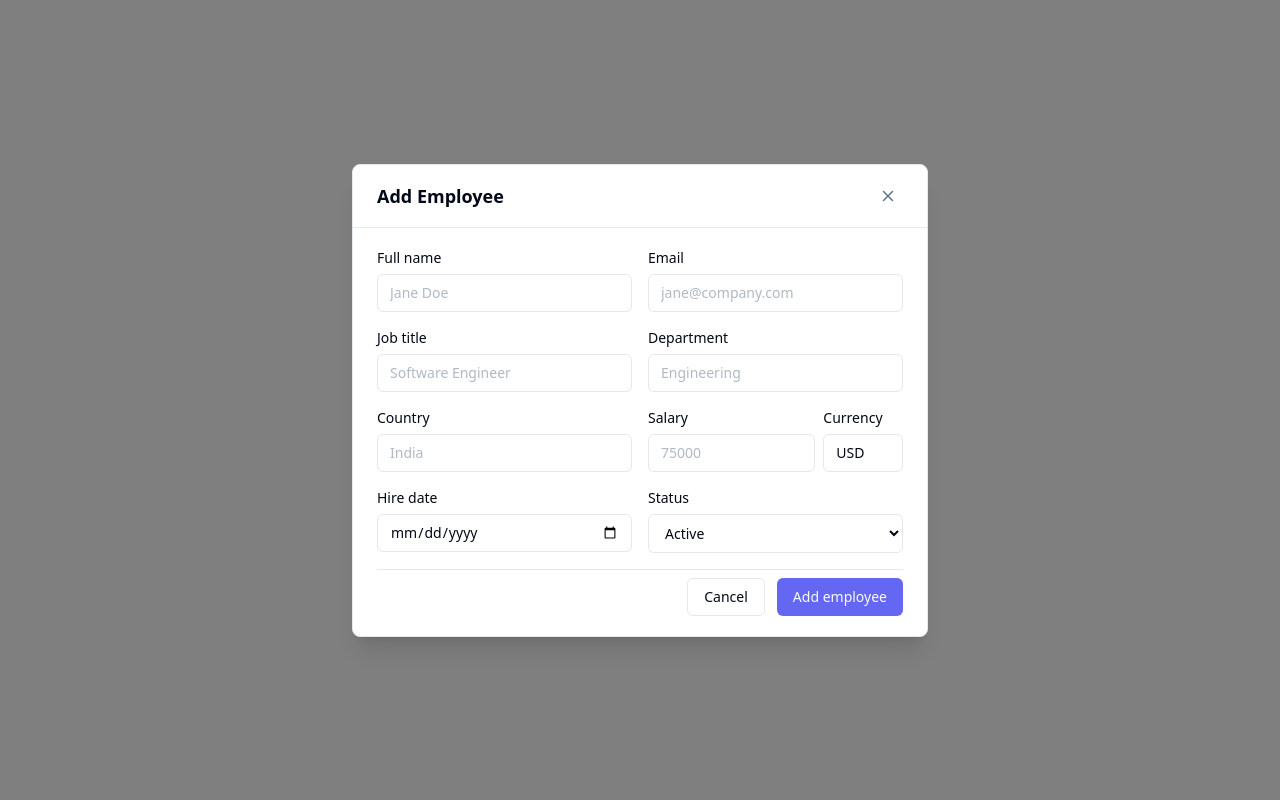
Test: EmployeeForm › should show validation errors on empty submit
Click the button "Add employee" at (840,596), box [777, 578, 903, 616]
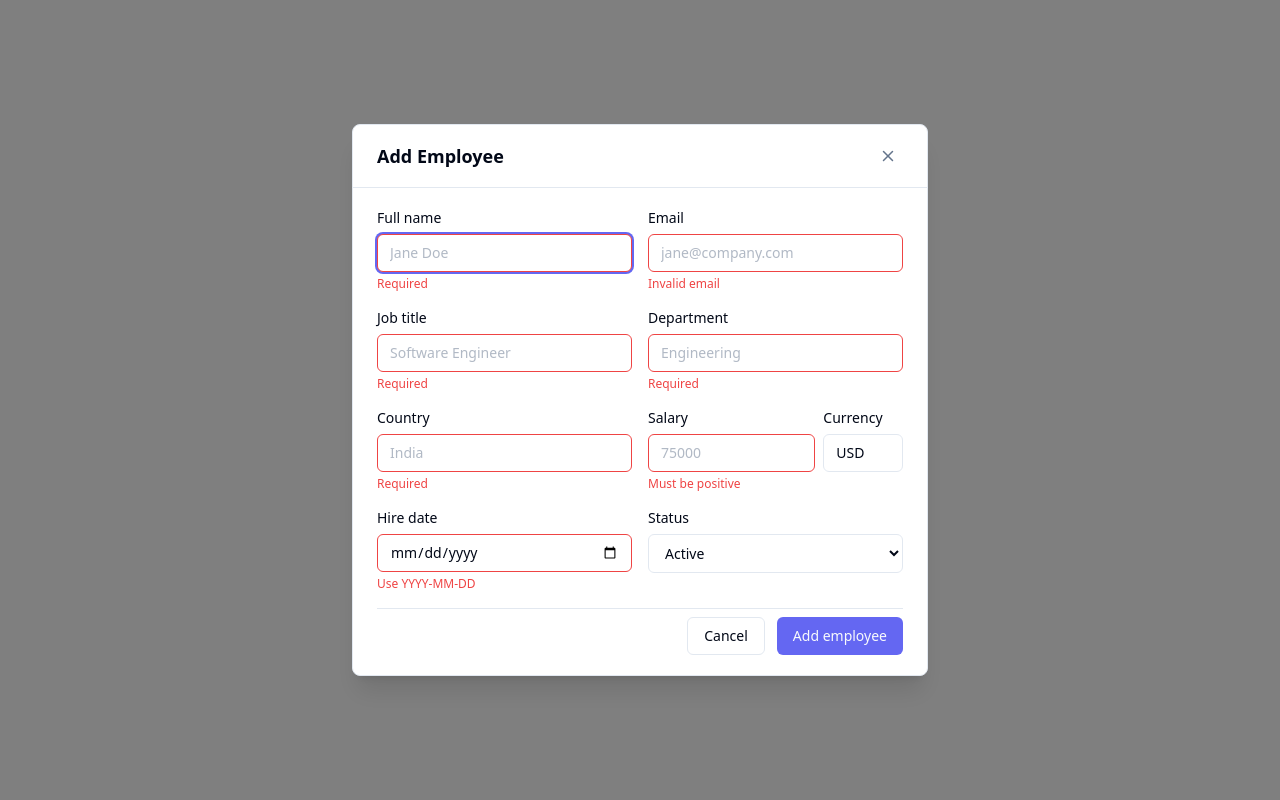
expect the text "Required" below "Full name" is shown: met, box [377, 275, 428, 292]
